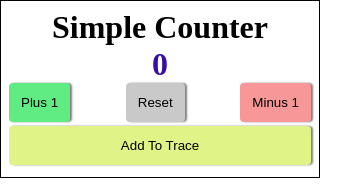
Test: counter testing › should subtract on click subtractButton
Click the button "Minus 1". click: point(276, 102)
box: [240,83,311,122]
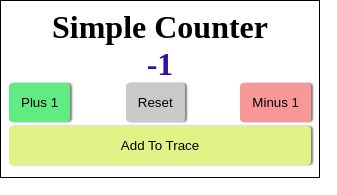
expect the heading "0" reads "-1": met, box [147,46,173,82]
Click the button "Minus 1". click: point(276, 102)
box: [240,83,311,122]
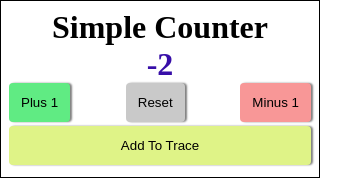
expect the heading "0" reads "-2": met, box [147,46,173,82]
